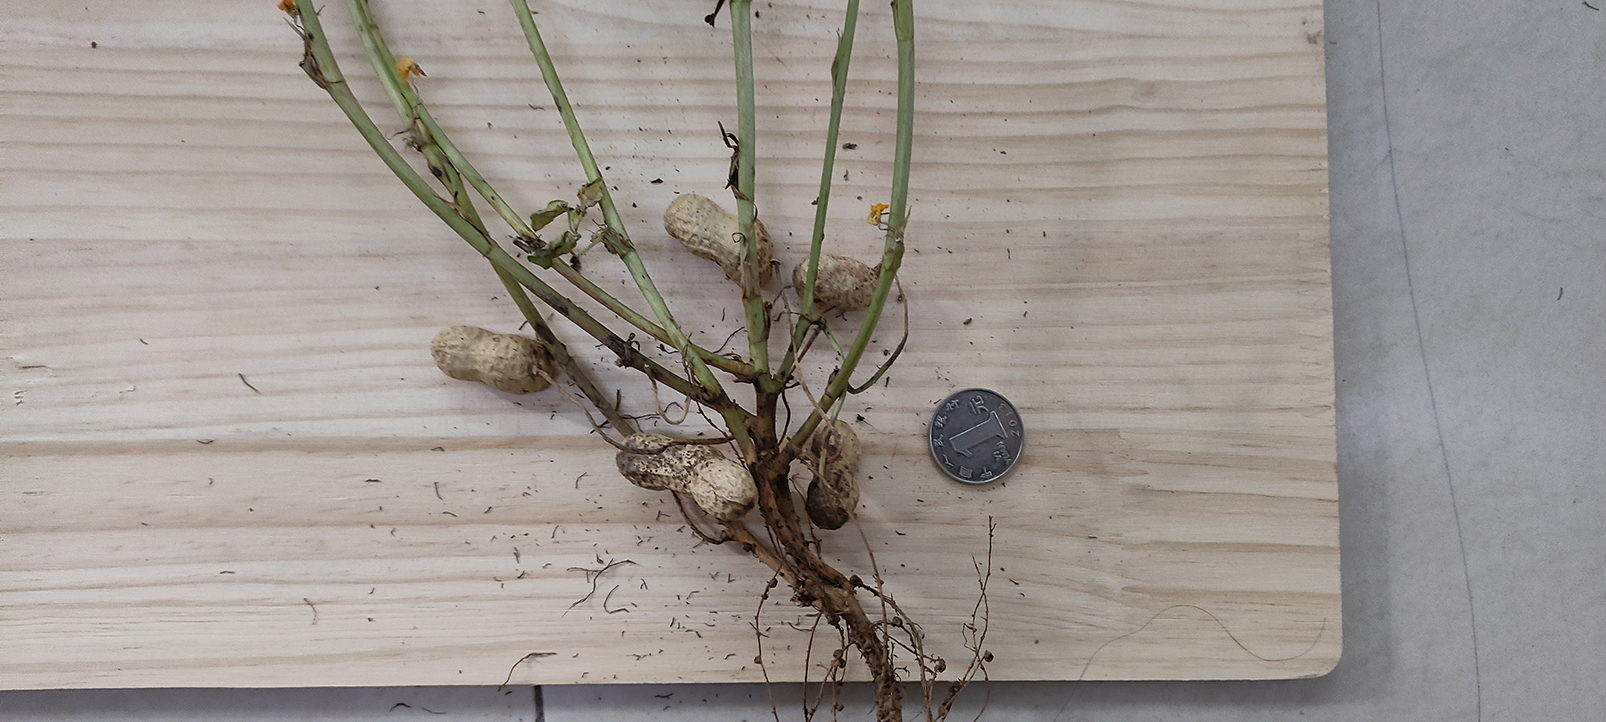h: (616, 434, 756, 516), (668, 197, 775, 282), (429, 324, 556, 392), (792, 253, 877, 309)
l: (808, 422, 860, 530)
